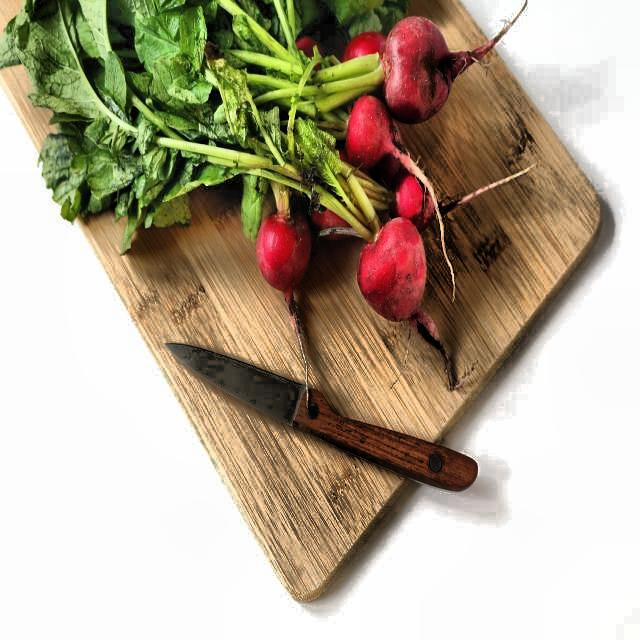knife: (163, 338, 478, 498)
